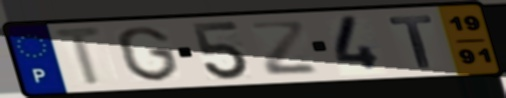4: (332, 13, 388, 76)
5: (188, 19, 252, 82)
G: (114, 24, 183, 83)
T: (49, 25, 110, 89), (385, 13, 436, 70)
Z: (246, 21, 321, 78)
